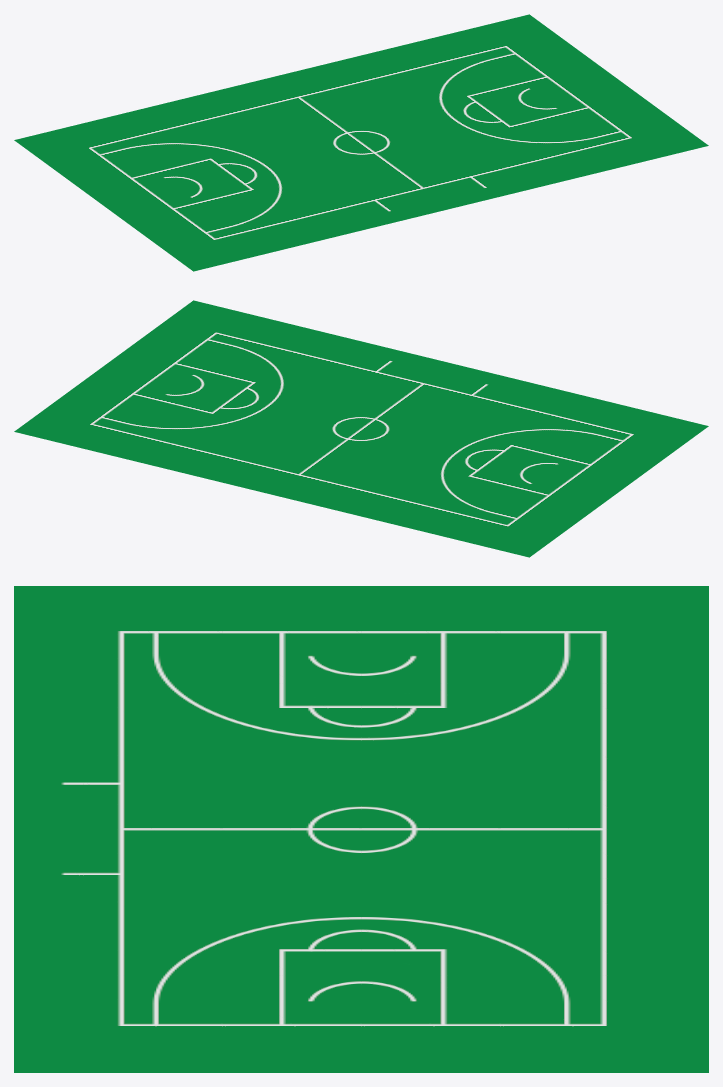
Rendered from field_3.fbx.
The picture shows the model from 3 angles, top to bottom: view 1: azimuth 30°, elevation 25°; view 2: azimuth 150°, elevation 25°; view 3: azimuth 270°, elevation 25°; orthographic projection. The views are drawn at different scales.
Parts seen in each view (by area): view 1: Field_03; view 2: Field_03; view 3: Field_03.
Boxes of the visible parts, bbox=[...] form: Field_03: bbox=[14, 14, 708, 271]; Field_03: bbox=[14, 300, 708, 557]; Field_03: bbox=[14, 586, 708, 1072].
Size of the model in its own units: 2.13 by 0 by 1.29.
Materials: 1 (1 with a texture image).
